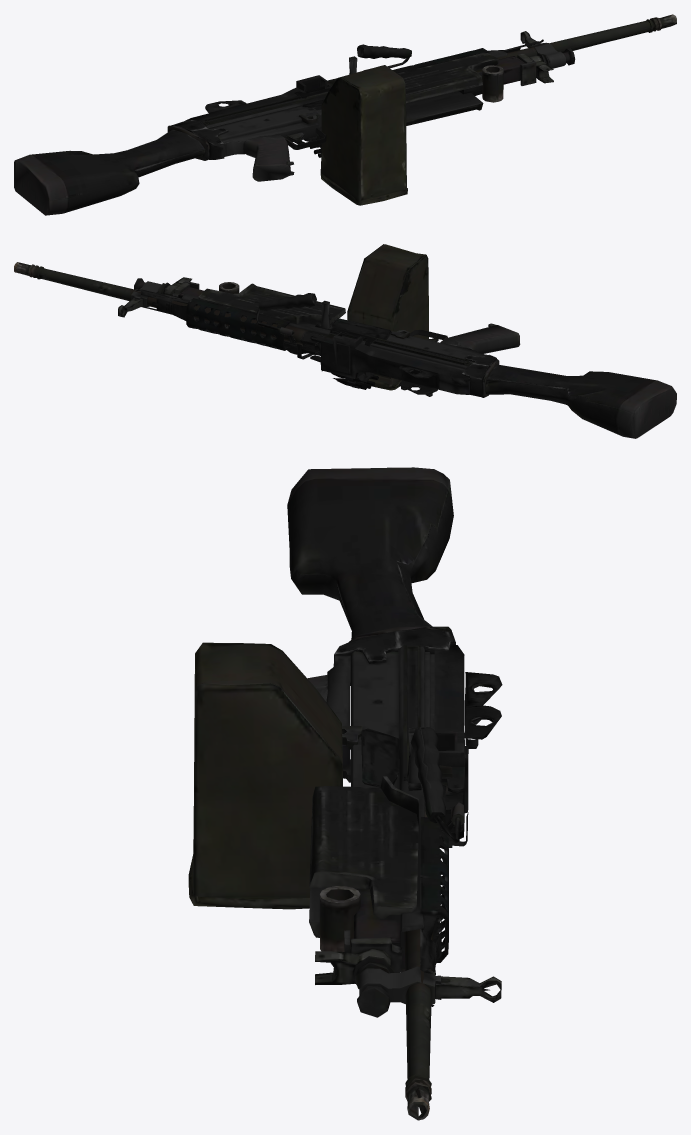
Rendered from m249_worldmodel.glb.
3 renders of one model, top to bottom at view 1: azimuth 30°, elevation 25°; view 2: azimuth 150°, elevation 25°; view 3: azimuth 270°, elevation 25°, orthographic. The views are drawn at different scales.
Parts seen in each view (by area): view 1: m249_LOD0; view 2: m249_LOD0; view 3: m249_LOD0.
Boxes of the visible parts, x1,y1,x2,y2 form: m249_LOD0: [14, 14, 676, 215]; m249_LOD0: [14, 244, 676, 438]; m249_LOD0: [188, 467, 502, 1120].
Bounding box in the file's own units: 0.8479 × 0.1422 × 0.183.
2 materials, 2 textured.
